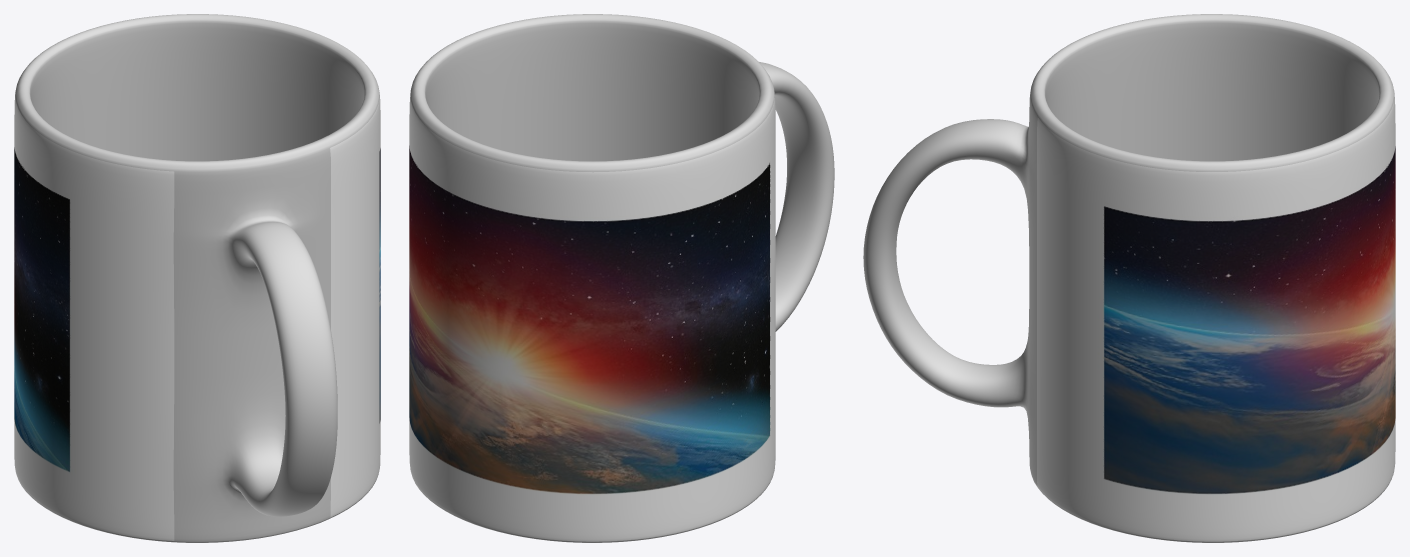
3 renders of one model, left to right at view 1: azimuth 30°, elevation 25°; view 2: azimuth 150°, elevation 25°; view 3: azimuth 270°, elevation 25°, orthographic.
Visible parts, largest first — view 1: MainMug; view 2: MainMug; view 3: MainMug.
Boxes of the visible parts, x1,y1,x2,y2 form: MainMug: (14,14,380,542); MainMug: (409,14,834,542); MainMug: (863,14,1395,542).
Bounding box in the file's own units: 0.0857 × 0.0978 × 0.1245.
Materials: 2 (1 with a texture image).
